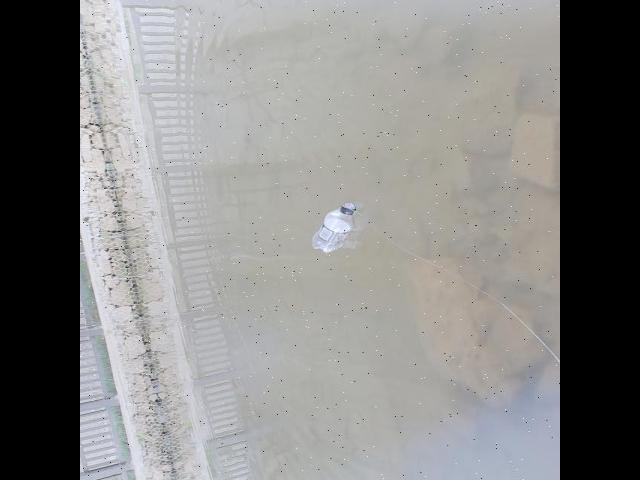Bottle: (308, 198, 358, 260)
